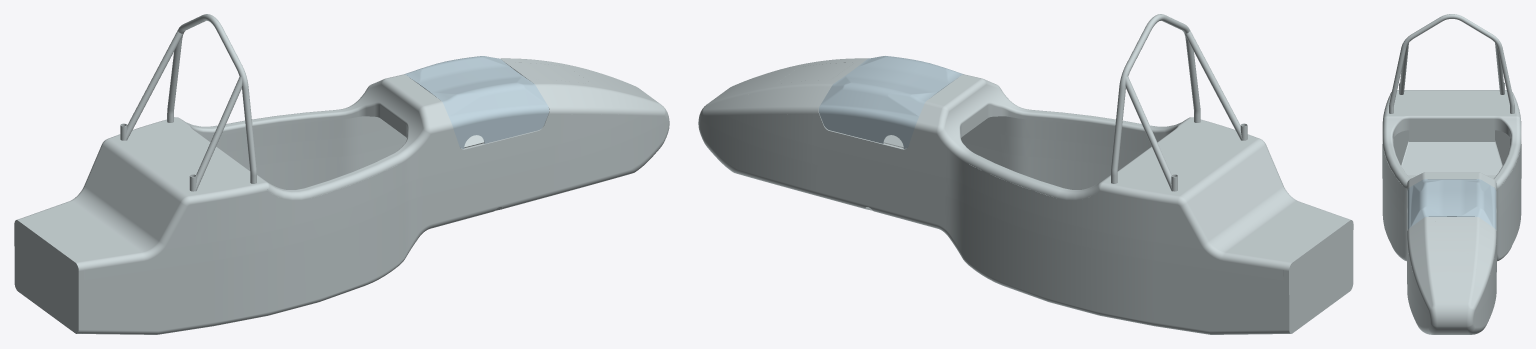
File: chassis.gltf
3 views of the same model, side by side, from view 1: azimuth 30°, elevation 25°; view 2: azimuth 150°, elevation 25°; view 3: azimuth 270°, elevation 25° (orthographic). The views are drawn at different scales.
Parts seen in each view (by area): view 1: Mesh.011, Mesh.001, Mesh.009, Mesh, Mesh.008, Mesh.010, Mesh.004, Mesh.002, Mesh.006, Mesh.007; view 2: Mesh.011, Mesh.001, Mesh.009, Mesh, Mesh.008, Mesh.010, Mesh.004, Mesh.002, Mesh.007, Mesh.006; view 3: Mesh.011, Mesh.010, Mesh.009, Mesh.001, Mesh.008, Mesh.004, Mesh.002, Mesh, Mesh.006, Mesh.007.
Part boxes in pixels (x1,y1,x2,y2): Mesh.011: [22, 114, 627, 334]; Mesh.001: [404, 56, 549, 148]; Mesh.009: [176, 74, 453, 200]; Mesh: [14, 218, 84, 333]; Mesh.008: [500, 58, 627, 114]; Mesh.010: [588, 69, 669, 175]; Mesh.004: [167, 14, 256, 183]; Mesh.002: [514, 62, 591, 84]; Mesh.006: [125, 30, 182, 140]; Mesh.007: [195, 76, 242, 191]; Mesh.011: [740, 114, 1345, 334]; Mesh.001: [819, 56, 963, 148]; Mesh.009: [914, 74, 1191, 200]; Mesh: [1283, 218, 1353, 333]; Mesh.008: [740, 58, 868, 114]; Mesh.010: [698, 69, 780, 174]; Mesh.004: [1111, 14, 1200, 183]; Mesh.002: [776, 62, 853, 83]; Mesh.007: [1184, 30, 1242, 140]; Mesh.006: [1125, 76, 1172, 191]; Mesh.011: [1382, 90, 1521, 321]; Mesh.010: [1415, 268, 1488, 334]; Mesh.009: [1382, 116, 1521, 191]; Mesh.001: [1407, 179, 1496, 229]; Mesh.008: [1407, 217, 1496, 279]; Mesh.004: [1389, 14, 1514, 146]; Mesh.002: [1434, 221, 1469, 253]; Mesh: [1408, 130, 1495, 141]; Mesh.006: [1495, 43, 1504, 94]; Mesh.007: [1399, 43, 1408, 94].
Bounding box in the file's own units: 2.64 × 1.11 × 0.7158.
